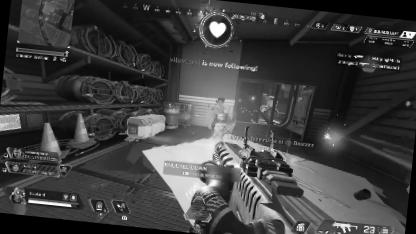Target: (209, 96, 232, 142)
